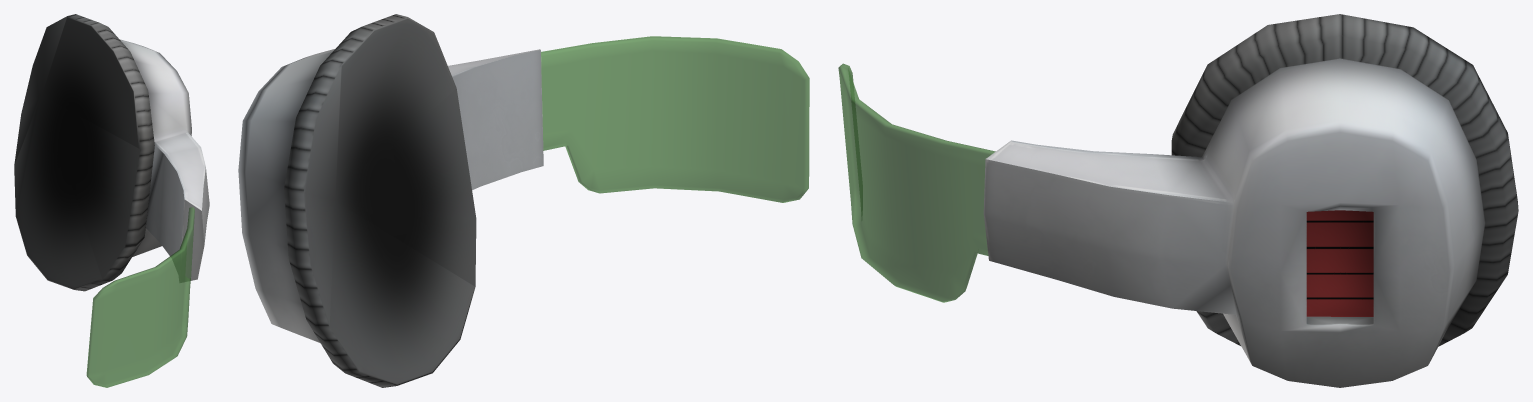
The model's file is Scouter_Glasses.fbx.
3 renders of one model, left to right at view 1: azimuth 30°, elevation 25°; view 2: azimuth 150°, elevation 25°; view 3: azimuth 270°, elevation 25°, orthographic. The views are drawn at different scales.
Parts seen in each view (by area): view 1: Scouter_Glasses; view 2: Scouter_Glasses; view 3: Scouter_Glasses.
Boxes of the visible parts, box(x1,y1,x2,y2) form: Scouter_Glasses: box(14, 14, 209, 387); Scouter_Glasses: box(238, 14, 809, 387); Scouter_Glasses: box(838, 14, 1518, 387).
Bounding box in the file's own units: 18.26 × 18.73 × 30.52.
